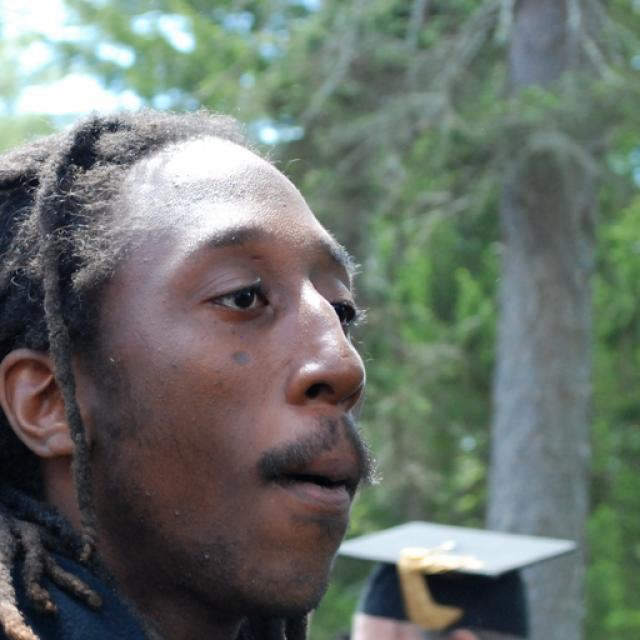surprise: (84, 136, 368, 610)
